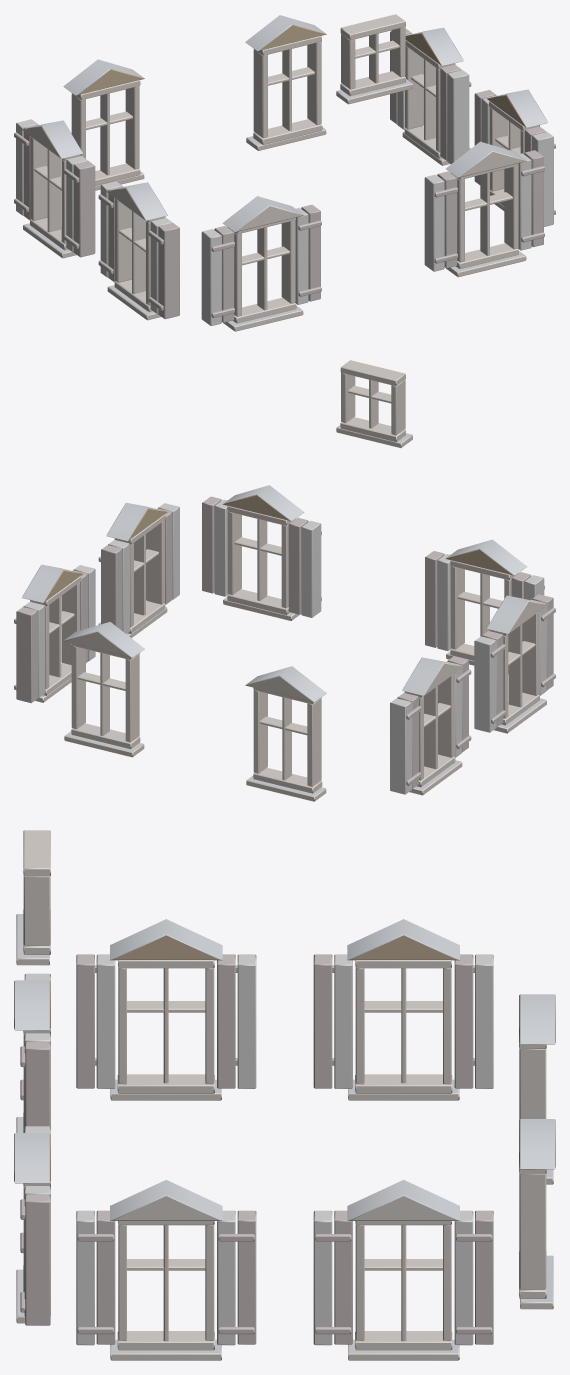
The model's file is CandyHouse_Gingerbread_Trim.glb.
3 views of the same model, one above another, from view 1: azimuth 30°, elevation 25°; view 2: azimuth 150°, elevation 25°; view 3: azimuth 270°, elevation 25° (orthographic). The views are drawn at different scales.
Parts seen in each view (by area): view 1: CandyHouse_Gingerbread_Trim; view 2: CandyHouse_Gingerbread_Trim; view 3: CandyHouse_Gingerbread_Trim.
Boxes of the visible parts, x1=… form: CandyHouse_Gingerbread_Trim: x1=14, y1=14, x2=555, y2=331; CandyHouse_Gingerbread_Trim: x1=14, y1=360, x2=555, y2=801; CandyHouse_Gingerbread_Trim: x1=14, y1=830, x2=555, y2=1360.
Bounding box in the file's own units: 23.4 × 14.81 × 19.4.
